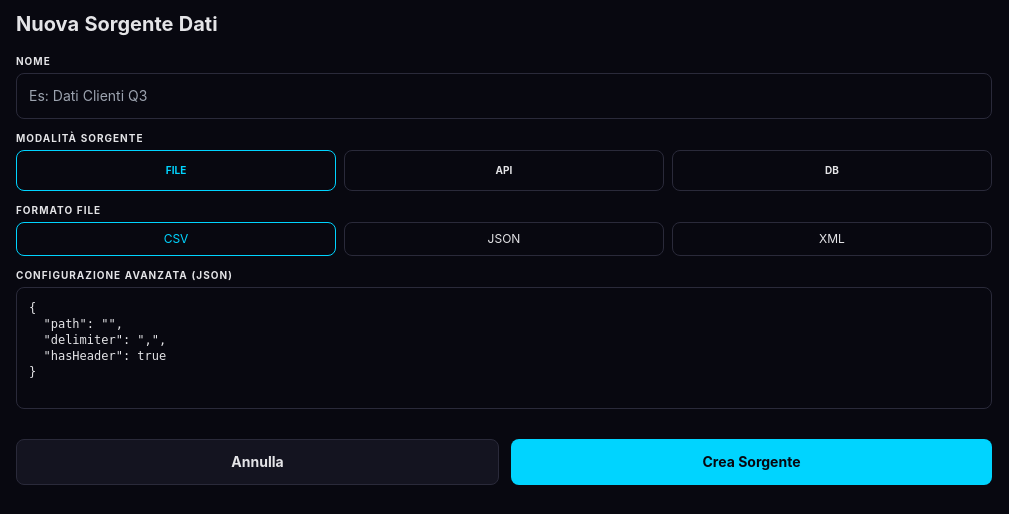
Test: DataSourceForm › switches to DB mode
Click the button "DB": (832, 170) x1=672 y1=150 x2=992 y2=191
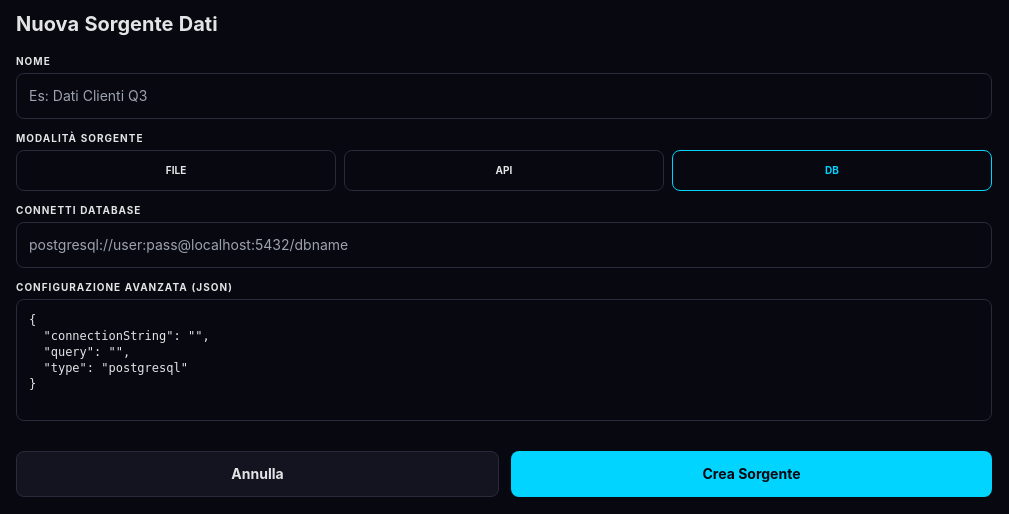
expect the text "Connetti Database" is shown: met, box x1=16 y1=204 x2=142 y2=216
